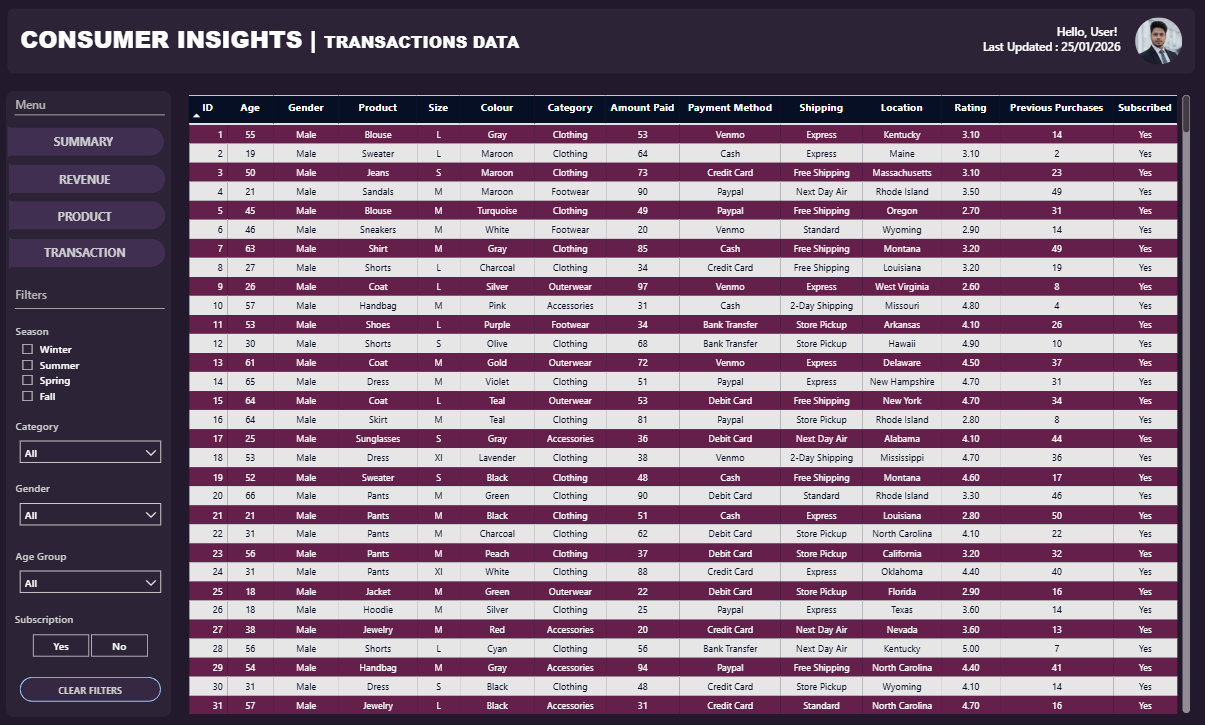

The dashboard page shown, as its layout file describes it:
{"tool":"powerbi","page":{"name":"Transactions Data","canvas":[1400,847],"ordinal":3},"visuals":[{"type":"shape","box":[12.9,13.2,1372.9,75.7],"z":0},{"type":"textbox","box":[23.3,25,713.3,53.3],"z":1000},{"type":"textbox","box":[1016.7,23.9,308.3,54.2],"z":2000},{"type":"image","box":[1312.2,18.8,64.4,64.4],"z":3000},{"type":"shape","box":[12,108,191,724],"z":4000},{"type":"textbox","box":[17.3,109.3,91.3,38.7],"z":5000},{"type":"shape","box":[12.7,139.7,181.3,54],"z":6000},{"type":"actionButton","box":[13.3,153,176,26.7],"z":7000},{"type":"shape","box":[22,128.7,173.3,15.3],"z":8000},{"type":"shape","box":[14.3,182.8,181.3,54],"z":9000},{"type":"actionButton","box":[15,196.1,176,26.7],"z":10000},{"type":"shape","box":[14.3,225.9,181.3,54],"z":11000},{"type":"actionButton","box":[15,239.2,176,26.7],"z":12000},{"type":"shape","box":[13.8,268.9,181.3,54],"z":13000},{"type":"actionButton","box":[14.5,282.2,176,26.7],"z":14000},{"type":"textbox","box":[17.2,328.9,91.7,38.3],"z":15000},{"type":"shape","box":[22.2,352.2,173.3,15],"z":16000},{"type":"slicer","title":"Season","fields":{"Values":["consumer_behaviour consumer_data.season"]},"box":[11.8,367,193,119],"z":17000},{"type":"slicer","title":"Category","fields":{"Values":["consumer_behaviour consumer_data.category"]},"box":[11.8,476.4,194.5,72.7],"z":18000},{"type":"slicer","title":"Age Group","fields":{"Values":["consumer_behaviour consumer_data.age_group"]},"box":[11.8,626.4,194.5,73.6],"z":19000},{"type":"slicer","title":"Subscription","fields":{"Values":["consumer_behaviour consumer_data.subscription_status"]},"box":[11.8,700,192.7,70.9],"z":20000},{"type":"slicer","title":"Gender","fields":{"Values":["consumer_behaviour consumer_data.gender"]},"box":[11.8,549.1,194.5,77.3],"z":21000},{"type":"actionButton","title":"Clear Filters","box":[26.9,785.4,163.1,28.5],"z":22000},{"type":"tableEx","fields":{"Values":["consumer_behaviour consumer_data.customer_id","consumer_behaviour consumer_data.age","consumer_behaviour consumer_data.gender","consumer_behaviour consumer_data.item_purchased","consumer_behaviour consumer_data.size","consumer_behaviour consumer_data.color","consumer_behaviour consumer_data.category","consumer_behaviour consumer_data.purchase_amount","consumer_behaviour consumer_data.payment_method","consumer_behaviour consumer_data.shipping_type","consumer_behaviour consumer_data.location","consumer_behaviour consumer_data.review_rating"]},"box":[217.1,108.6,1168.6,724.3],"z":23000}]}

Visuals, with their boxes on the page's 1400x847 design canvas (x1, y1, x2, y2). These are canvas units, not pixel positions in the 1205x725 screenshot, which may show the page scaled, cropped or inside an application window:
shape: box(13, 13, 1386, 89)
textbox: box(23, 25, 737, 78)
textbox: box(1017, 24, 1325, 78)
image: box(1312, 19, 1377, 83)
shape: box(12, 108, 203, 832)
textbox: box(17, 109, 109, 148)
shape: box(13, 140, 194, 194)
actionButton: box(13, 153, 189, 180)
shape: box(22, 129, 195, 144)
shape: box(14, 183, 196, 237)
actionButton: box(15, 196, 191, 223)
shape: box(14, 226, 196, 280)
actionButton: box(15, 239, 191, 266)
shape: box(14, 269, 195, 323)
actionButton: box(14, 282, 190, 309)
textbox: box(17, 329, 109, 367)
shape: box(22, 352, 196, 367)
"Season" slicer: box(12, 367, 205, 486)
"Category" slicer: box(12, 476, 206, 549)
"Age Group" slicer: box(12, 626, 206, 700)
"Subscription" slicer: box(12, 700, 204, 771)
"Gender" slicer: box(12, 549, 206, 626)
"Clear Filters" actionButton: box(27, 785, 190, 814)
tableEx - consumer_behaviour consumer_data.customer_id x consumer_behaviour consumer_data.age: box(217, 109, 1386, 833)
